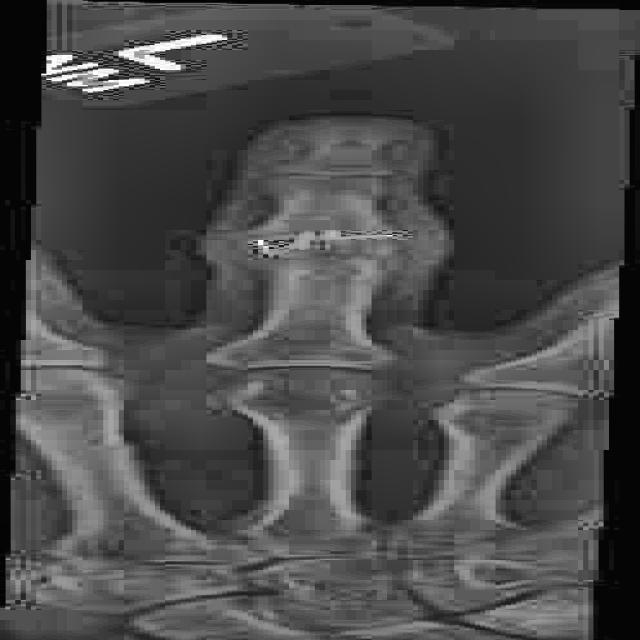fingers positive: (231, 233, 434, 271)
